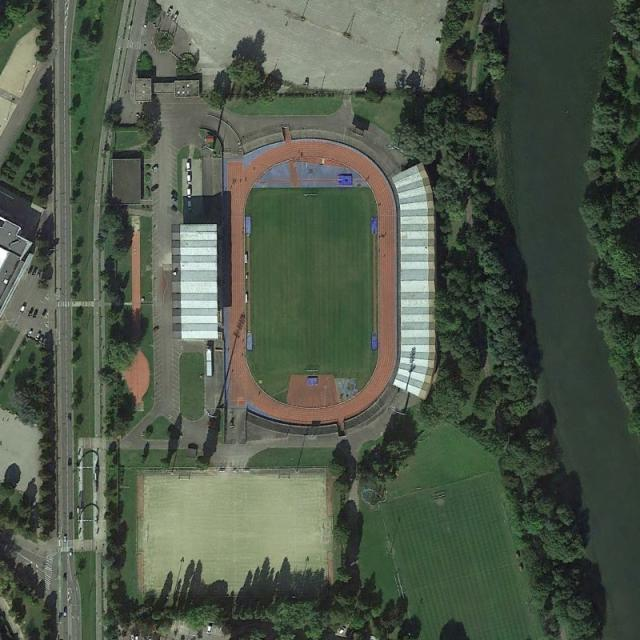vehicle: (20, 303, 26, 314), (151, 184, 159, 192), (338, 626, 346, 634), (186, 175, 192, 185), (187, 200, 193, 210), (173, 11, 179, 21), (33, 310, 39, 320), (29, 307, 34, 318), (206, 625, 212, 634), (186, 188, 191, 198), (33, 266, 38, 276), (69, 548, 74, 558), (166, 7, 172, 15), (68, 512, 74, 520), (186, 162, 191, 171), (144, 20, 149, 29), (35, 331, 40, 340), (62, 574, 67, 583), (68, 457, 73, 466), (37, 270, 42, 278), (28, 330, 33, 338), (39, 336, 44, 344), (63, 534, 68, 542), (305, 78, 310, 86), (28, 265, 32, 274), (68, 413, 72, 422), (63, 607, 66, 617)
